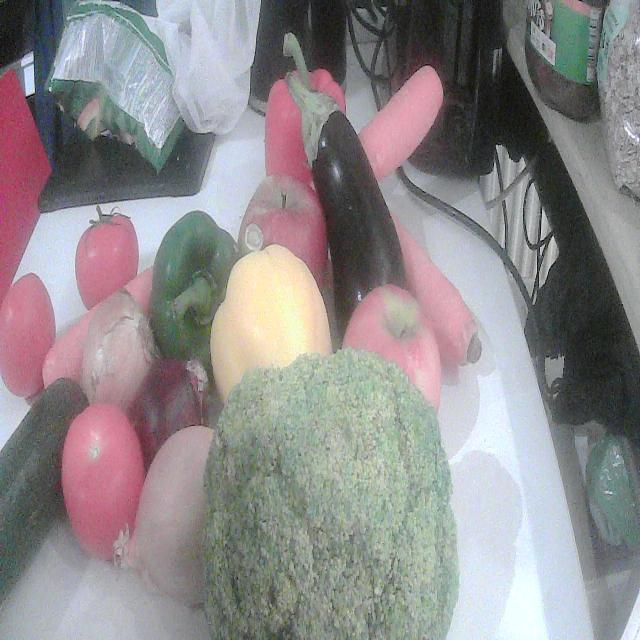Apple: (344, 284, 441, 411), (238, 178, 328, 290)
Bell Pepper: (210, 244, 332, 401), (149, 211, 240, 383), (265, 33, 346, 188)
Broccoli: (202, 350, 458, 639)
Carrot: (392, 212, 482, 371), (360, 66, 443, 180)
Courgette: (0, 379, 88, 604)
Eggplant: (302, 94, 404, 330)
Onion: (119, 427, 213, 606), (80, 290, 157, 410), (132, 358, 211, 466)
Tomato: (61, 404, 145, 558), (0, 273, 55, 401), (76, 216, 138, 309)
